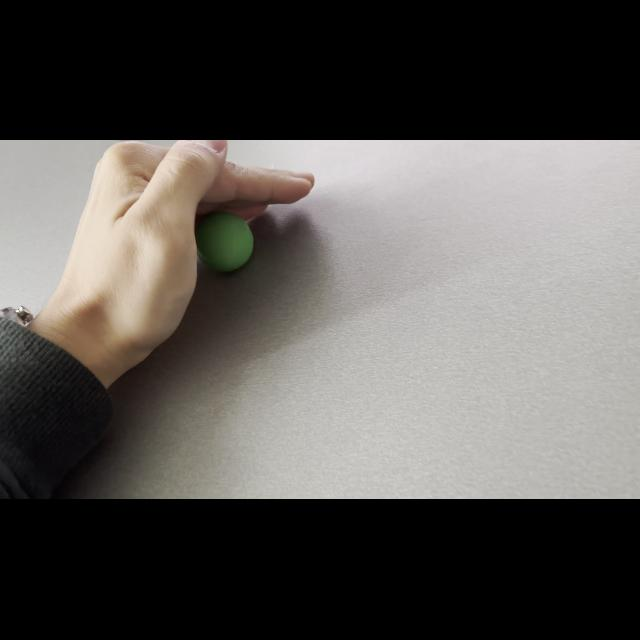objects: (196, 208, 260, 276)
